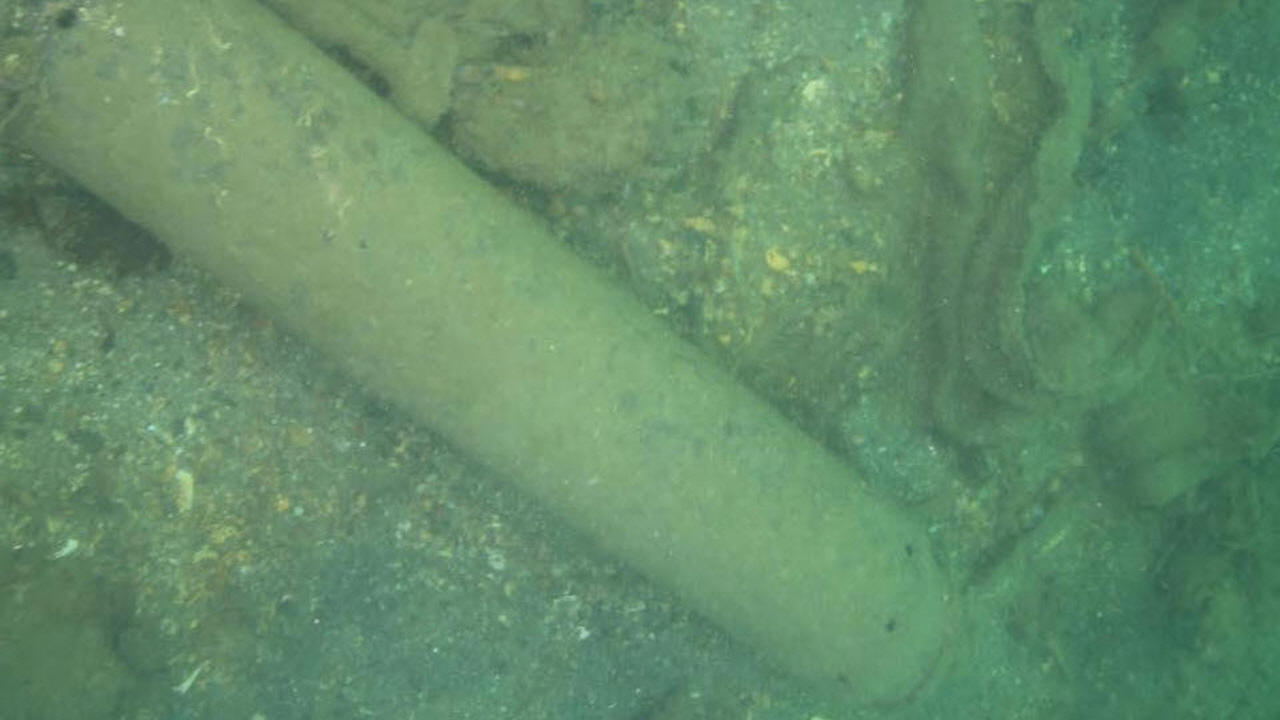eel fish trap: (22, 0, 946, 700)
